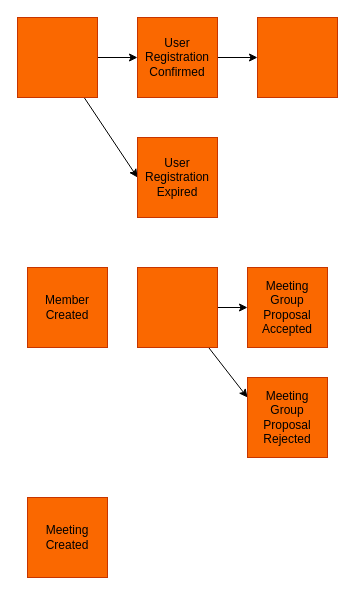
This 355x595 diagram has some shape labels left out. Here are the shapes that lost their labels. From the top down, the centre of each, then its label:
At point 57,57: "New User Registered".
At point 297,57: "User Created".
At point 177,307: "Meeting Group Proposal Verification Requested".
